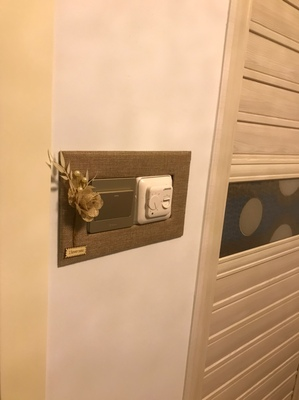switch: (96, 187, 135, 222)
